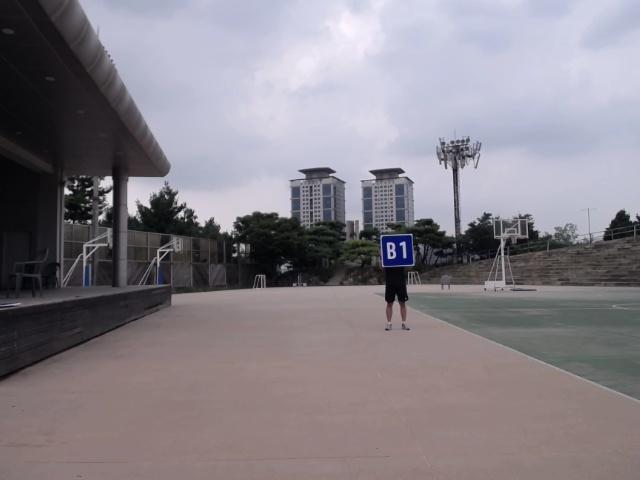delivery_b1: (380, 234, 415, 266)
